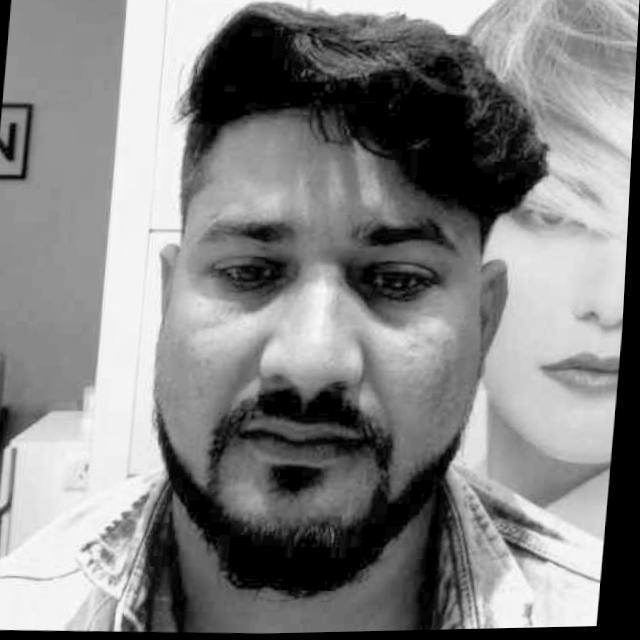puffy_eyes: (350, 281, 405, 328), (235, 277, 301, 313)
